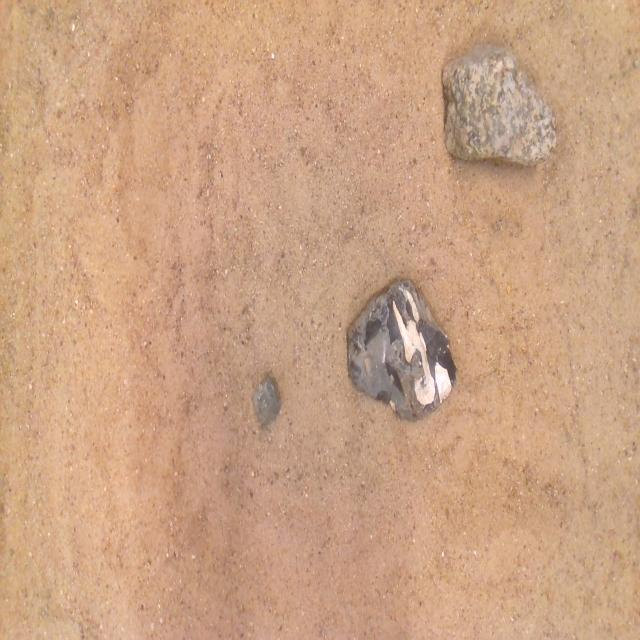rock: (348, 280, 456, 420), (442, 44, 555, 165), (252, 373, 281, 427)
